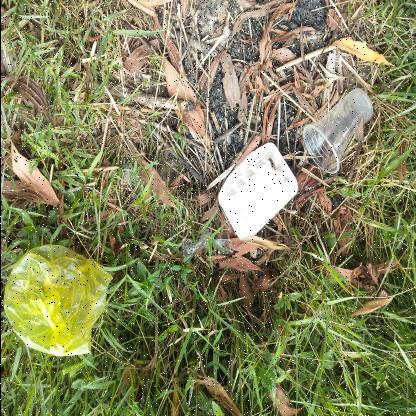foam: (217, 141, 297, 240)
plastic: (2, 242, 112, 358), (301, 88, 373, 174)
